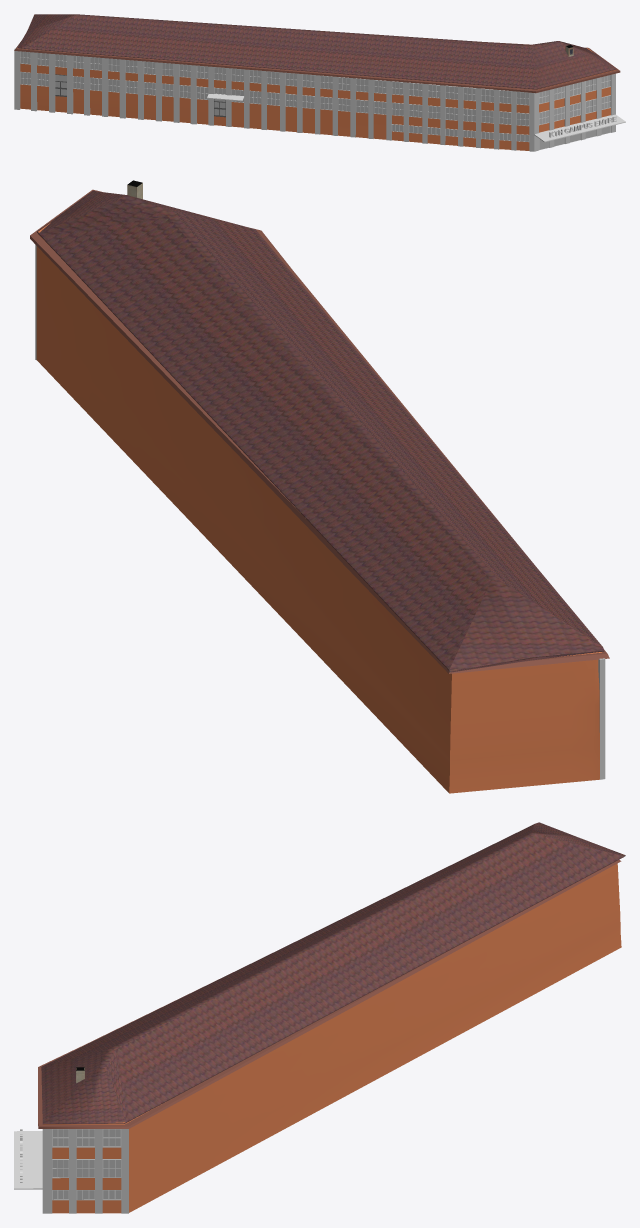
File: KTHsceneArkitektHusUnityTest1.fbx
3 renders of one model, top to bottom at view 1: azimuth 30°, elevation 25°; view 2: azimuth 150°, elevation 25°; view 3: azimuth 270°, elevation 25°, orthographic. The views are drawn at different scales.
Visible parts, largest first — view 1: pCube64, pCube2, pCube62, pCube165, pCube140, pCube144, pCube150, pCube141, pCube148, pCube145, pCube147, pCube146 (+29 smaller); view 2: pCube64, pCube2, pCube62, pCube150; view 3: pCube64, pCube2, pCube62, pCube165, pCube117, pCube118, pCube119, pCube114.
Boxes of the visible parts, box(x1,y1,x2,y2) form: pCube64: box(17, 14, 616, 89); pCube2: box(20, 63, 610, 150); pCube62: box(14, 41, 620, 93); pCube165: box(534, 114, 625, 142); pCube140: box(190, 65, 196, 124); pCube144: box(119, 59, 125, 118); pCube150: box(14, 48, 20, 109); pCube141: box(173, 63, 179, 122); pCube148: box(49, 53, 55, 112); pCube145: box(102, 58, 108, 116); pCube147: box(67, 55, 73, 114); pCube146: box(84, 56, 90, 115); pCube64: box(37, 190, 604, 672); pCube2: box(36, 246, 599, 793); pCube62: box(30, 189, 609, 673); pCube150: box(598, 658, 605, 779); pCube64: box(41, 822, 625, 1124); pCube2: box(52, 863, 621, 1213); pCube62: box(38, 860, 621, 1128); pCube165: box(14, 1131, 42, 1189); pCube117: box(69, 1129, 76, 1213); pCube118: box(95, 1129, 102, 1213); pCube119: box(121, 1129, 128, 1213); pCube114: box(46, 1129, 52, 1213).
Bounding box in the file's own units: 98.74 × 18.31 × 83.73.
